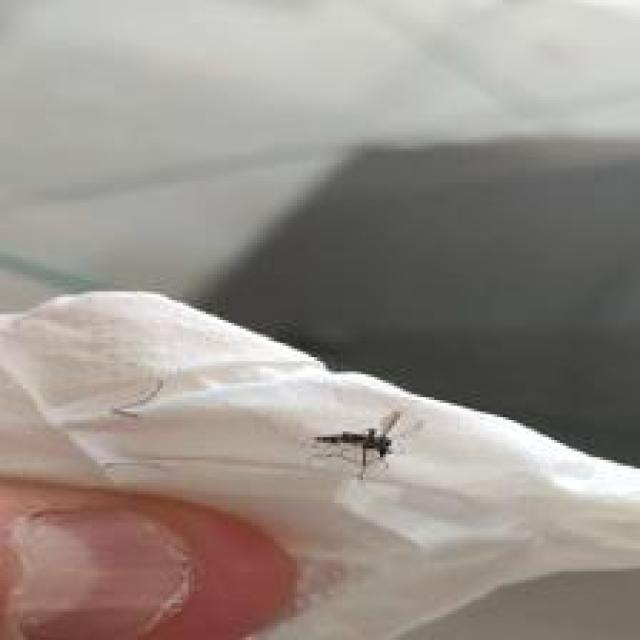Aedes albopictus: (311, 409, 403, 480)
